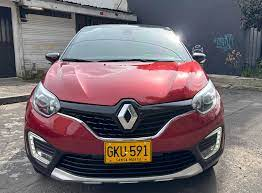placa_carro: (104, 140, 152, 166)
